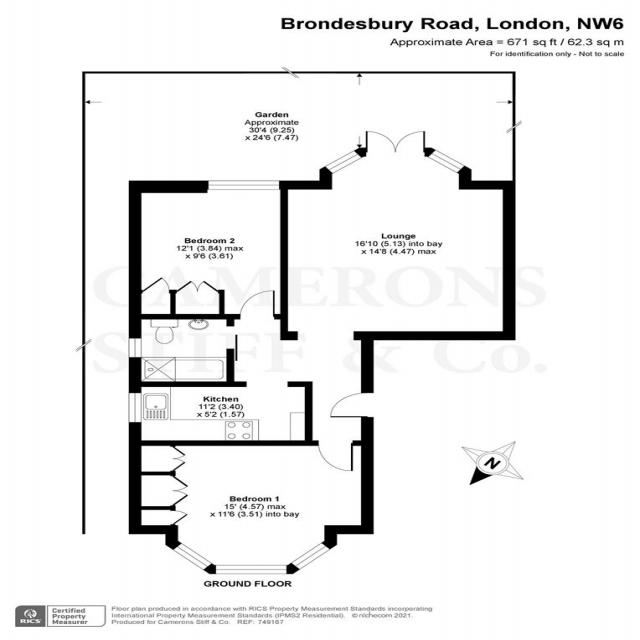DOOR: (315, 440, 355, 473), (329, 391, 374, 419), (238, 289, 276, 320)
ROOM: (280, 130, 516, 341), (128, 440, 374, 575), (128, 180, 288, 320), (128, 381, 313, 446)
WINDOW: (171, 542, 214, 571), (289, 542, 332, 571), (426, 148, 467, 175), (322, 149, 364, 175), (215, 564, 288, 575), (207, 180, 280, 191), (128, 392, 142, 424), (127, 337, 142, 359)
